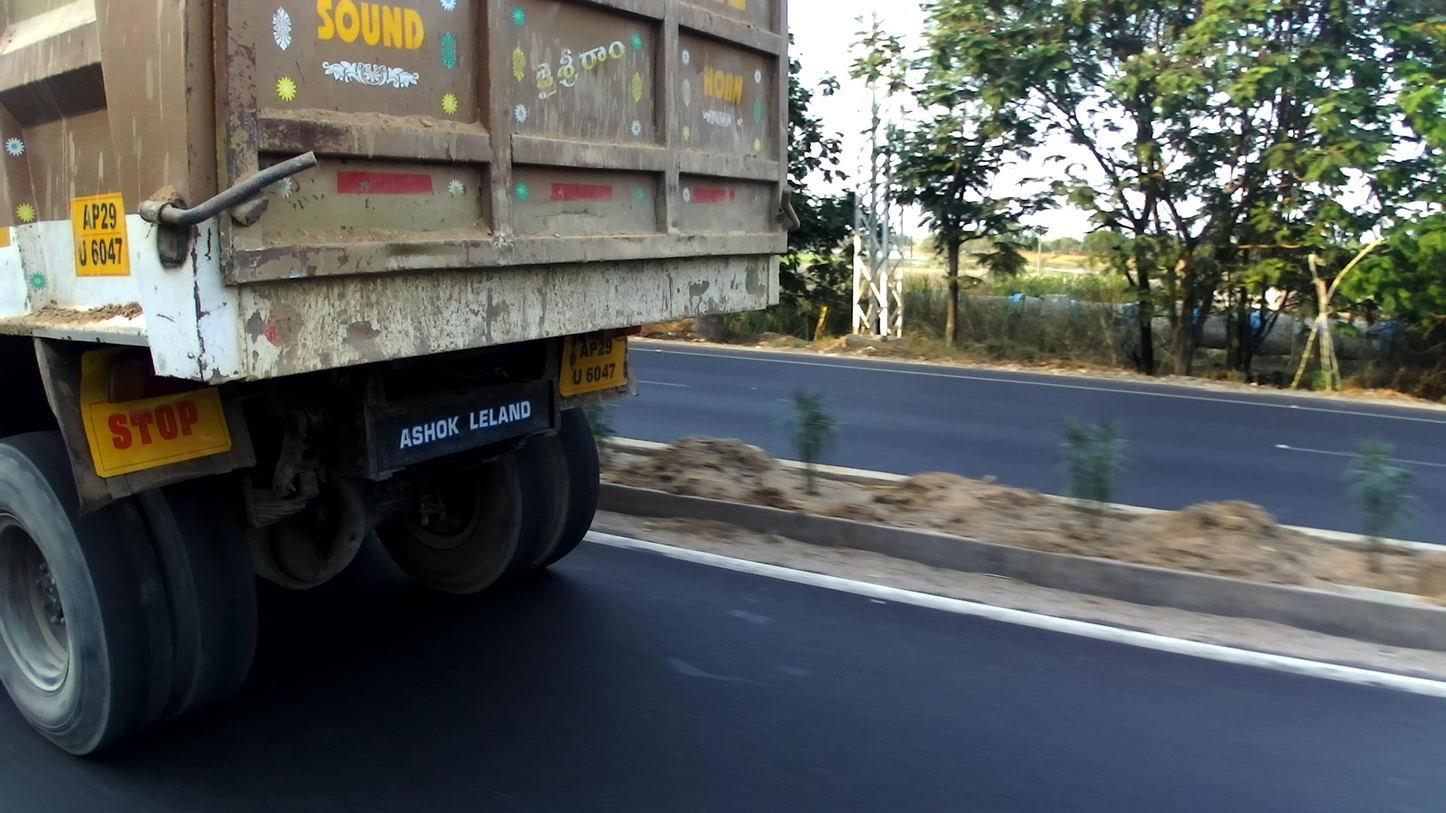truck: (1, 1, 801, 760)
